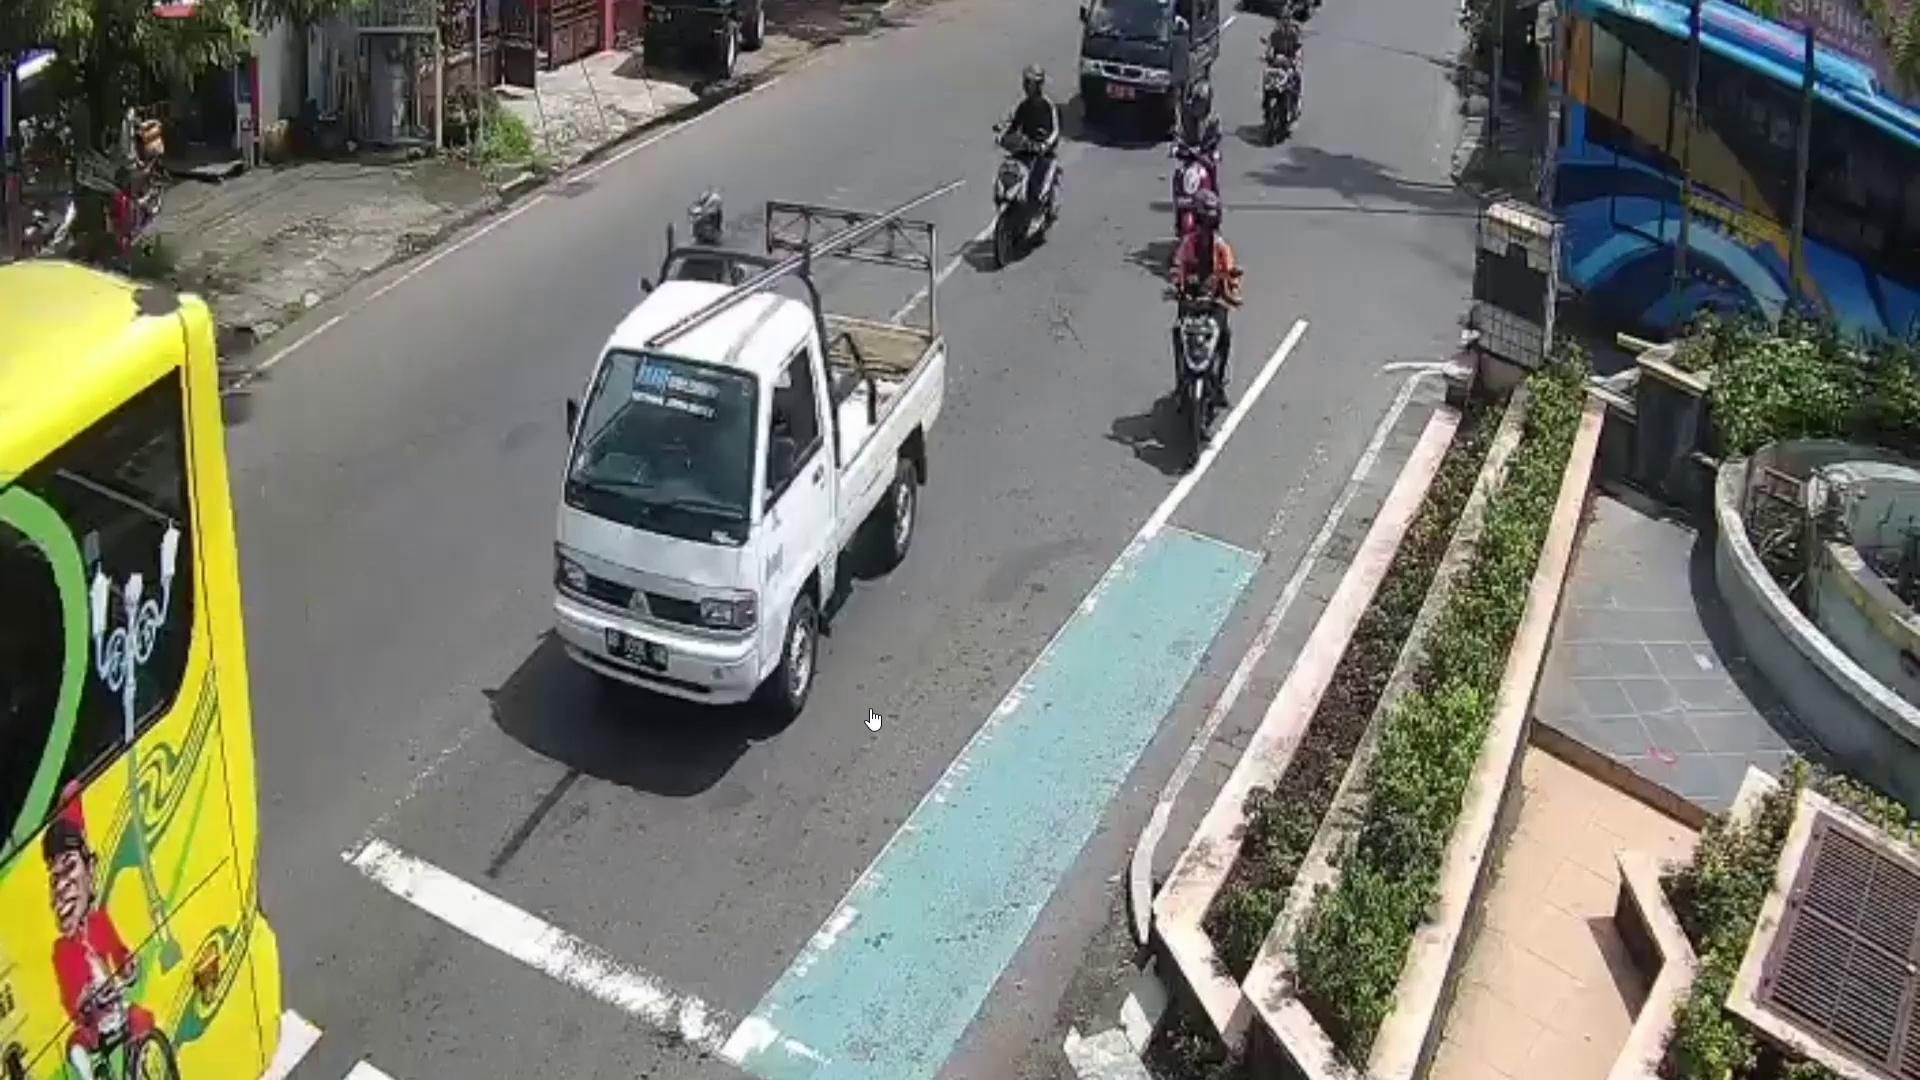bus: (0, 253, 287, 1080), (1549, 0, 1920, 398)
car: (549, 200, 944, 724), (1077, 4, 1222, 140)
motorbike: (1164, 284, 1237, 467), (994, 124, 1062, 270), (1253, 49, 1308, 146), (1168, 160, 1213, 239)
